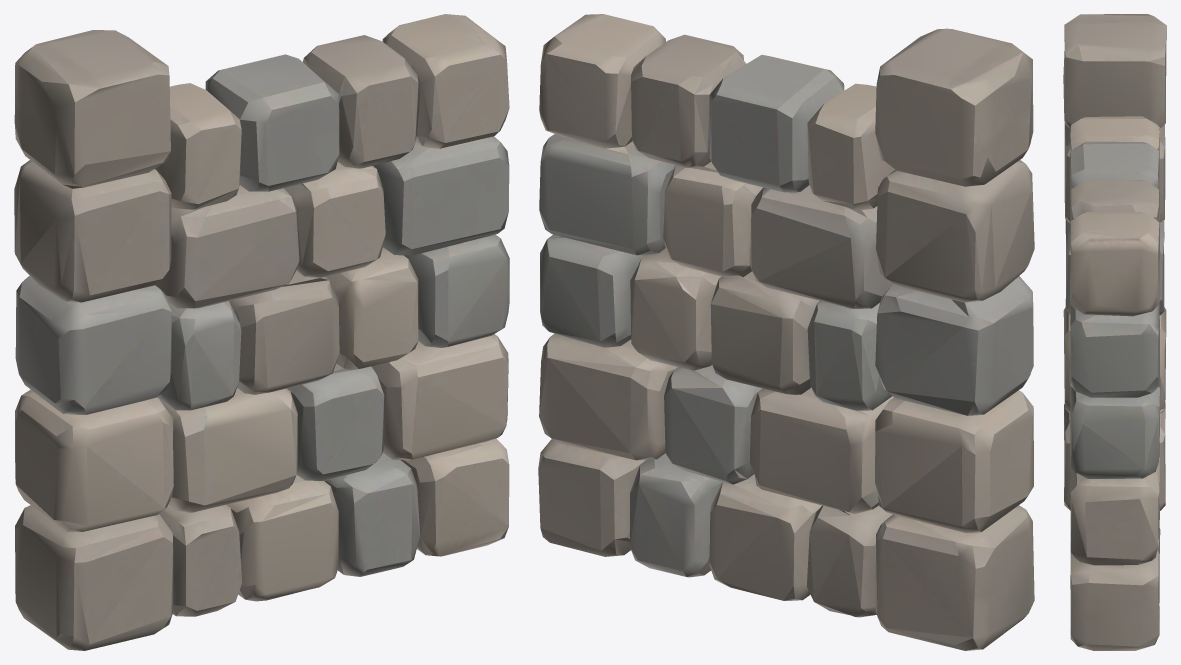
Rendered from cobbleWall.glb.
3 renders of one model, left to right at view 1: azimuth 30°, elevation 25°; view 2: azimuth 150°, elevation 25°; view 3: azimuth 270°, elevation 25°, orthographic. The views are drawn at different scales.
Visible parts, largest first — view 1: Mesh_0; view 2: Mesh_0; view 3: Mesh_0.
Part boxes in pixels (x1,y1,x2,y2): Mesh_0: (14, 14, 509, 650); Mesh_0: (538, 14, 1034, 650); Mesh_0: (1063, 14, 1166, 650).
Bounding box in the file's own units: 1 × 1.2 × 0.2399.
1 material, 1 textured.
